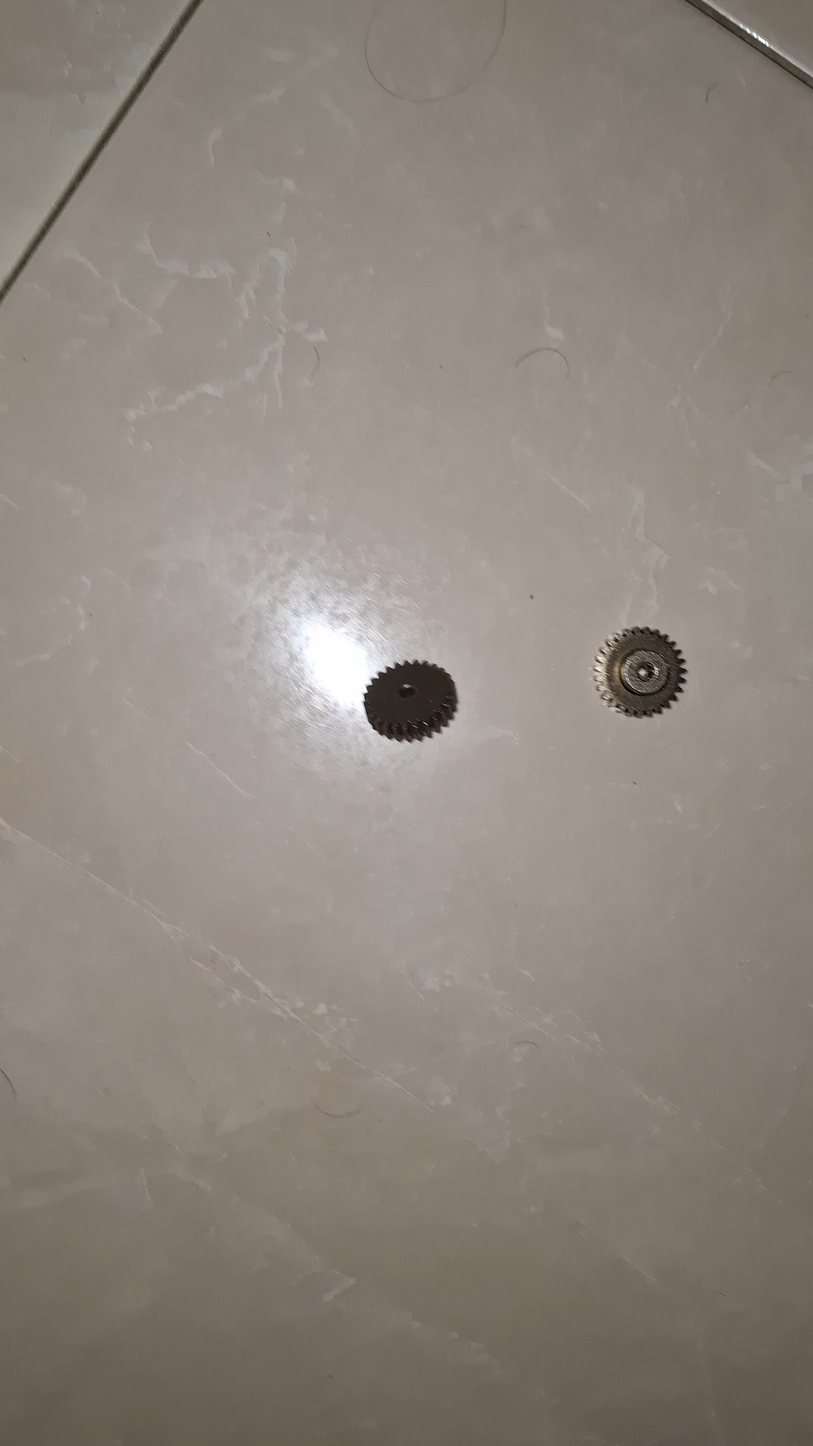spur gear: (594, 628, 685, 717), (364, 660, 457, 741)
